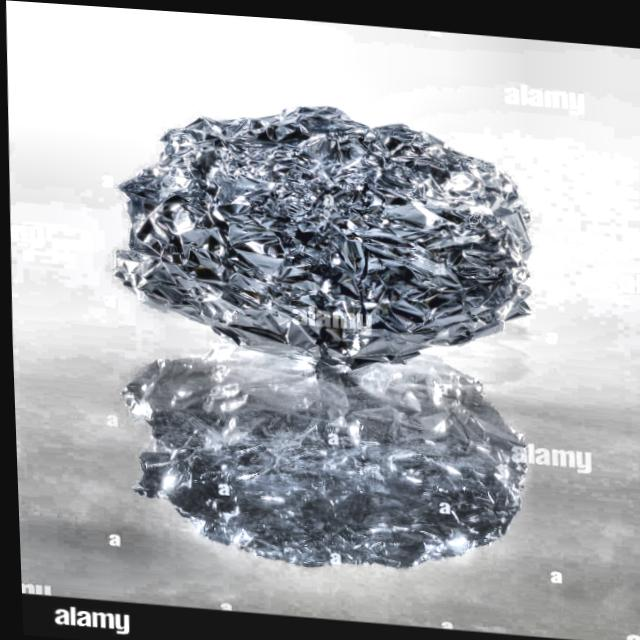Foil: (83, 75, 576, 384)
